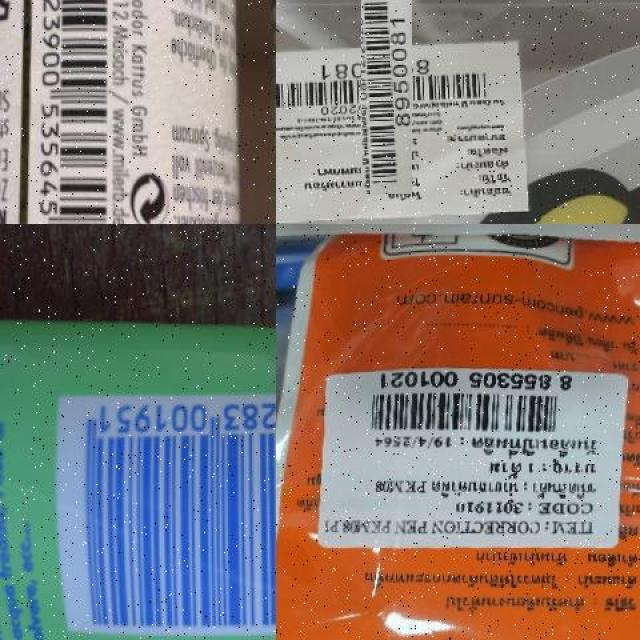Barcode: (53, 373, 276, 640), (318, 15, 455, 152), (360, 363, 588, 441), (37, 0, 116, 224)
